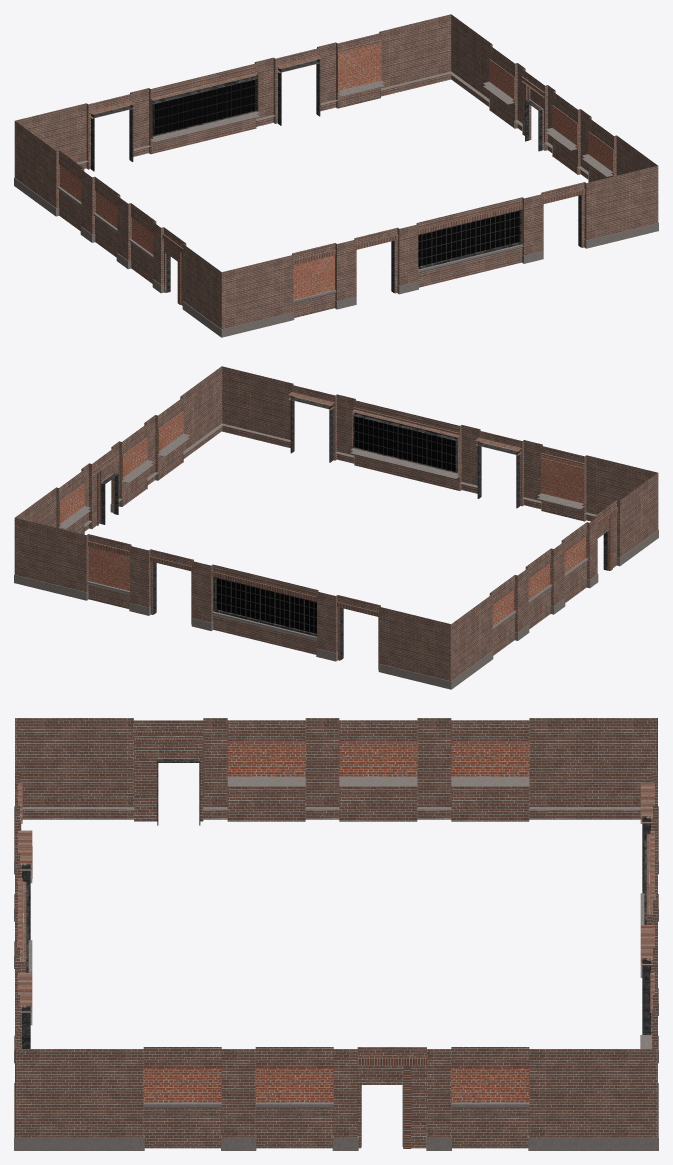
The model's file is BuildingA_Bottom_Shell_VarA.fbx.
3 renders of one model, top to bottom at view 1: azimuth 30°, elevation 25°; view 2: azimuth 150°, elevation 25°; view 3: azimuth 270°, elevation 25°, orthographic. The views are drawn at different scales.
Parts seen in each view (by area): view 1: BuildingA_Bottom_Shell_VarA; view 2: BuildingA_Bottom_Shell_VarA; view 3: BuildingA_Bottom_Shell_VarA.
Part boxes in pixels (x1,y1,x2,y2): BuildingA_Bottom_Shell_VarA: (14,14,658,337); BuildingA_Bottom_Shell_VarA: (14,366,658,689); BuildingA_Bottom_Shell_VarA: (14,718,658,1150).
Bounding box in the file's own units: 2807 × 400 × 2307.
